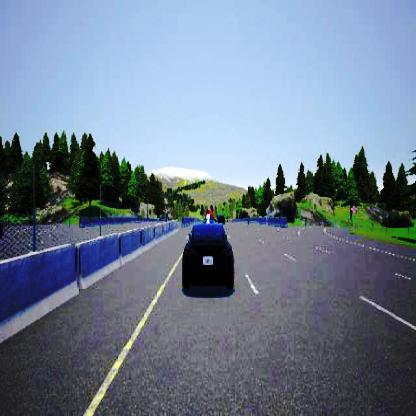vehicle: (182, 221, 234, 288)
